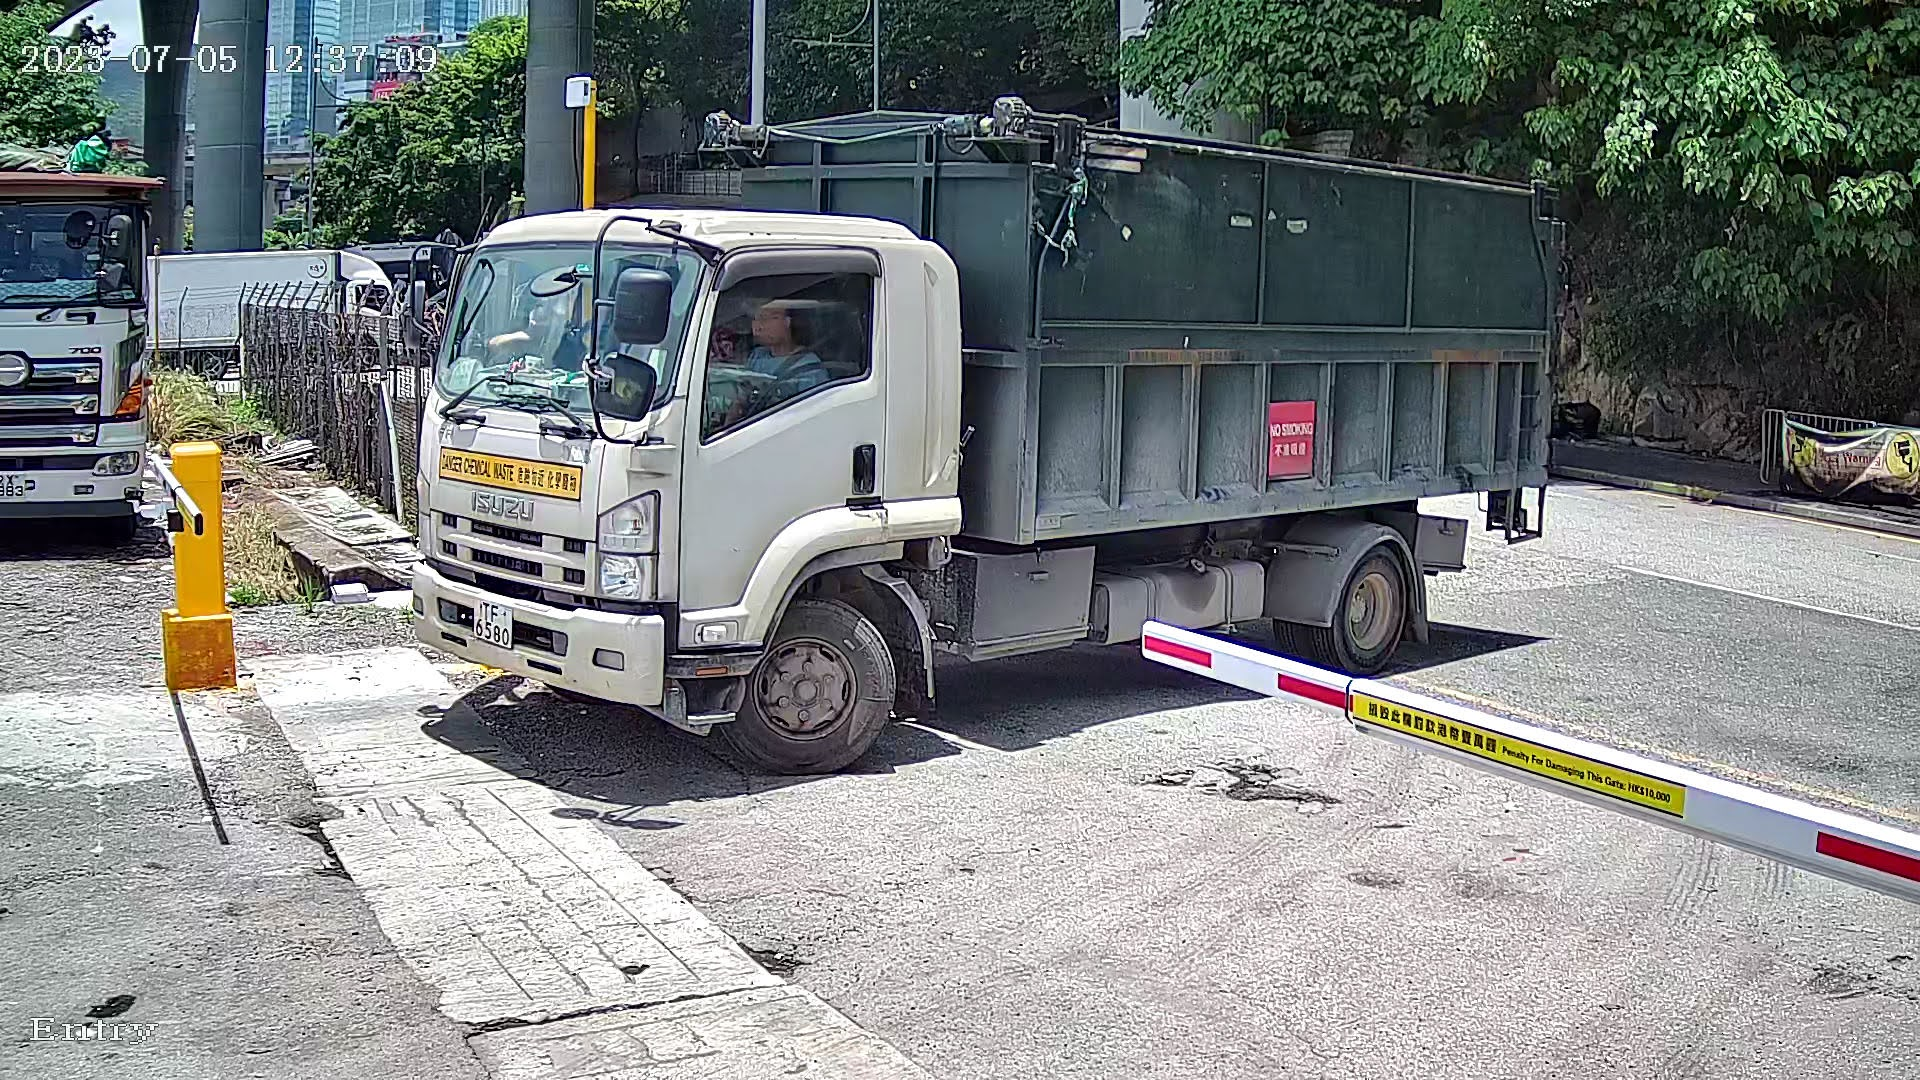truck_small: (342, 58, 1585, 791)
